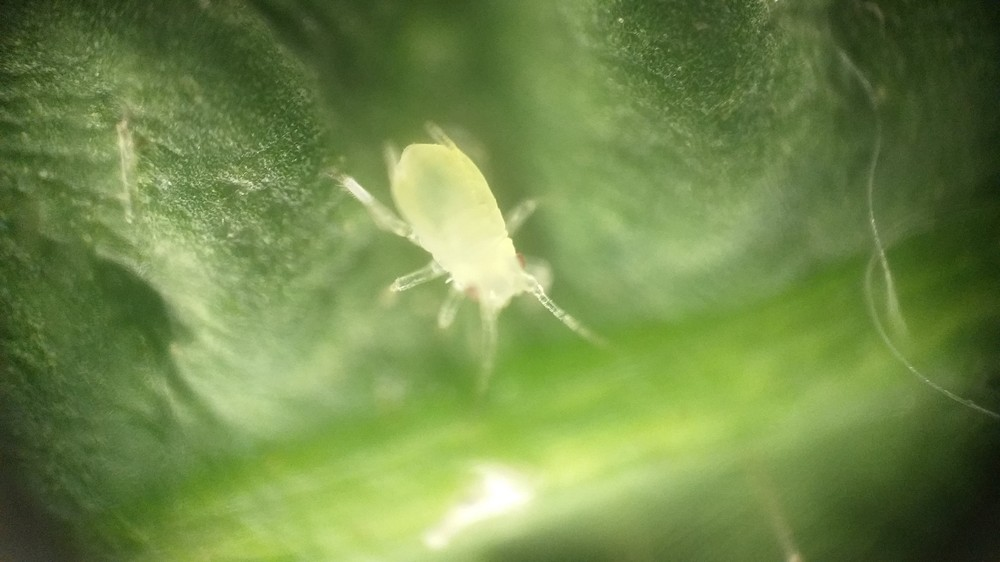Pulgon: (325, 107, 680, 411)
